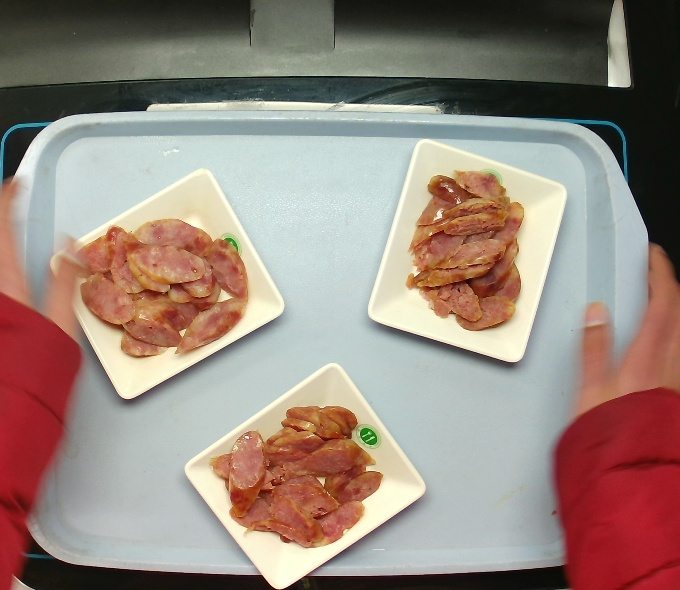wcq-QiePianXiangChang: (70, 203, 250, 358), (212, 388, 377, 552), (402, 172, 533, 332)
